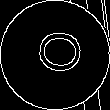O_W: (27, 31, 83, 79)
